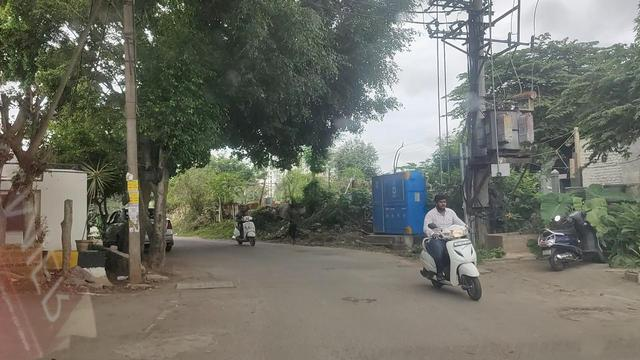LMV: (423, 197, 484, 305)
RoadDamages: (165, 269, 245, 296)
